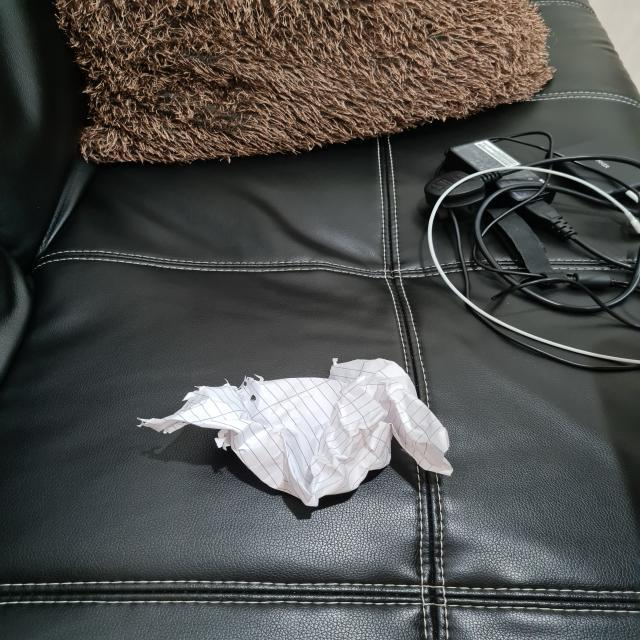Paper: (139, 361, 454, 503)
